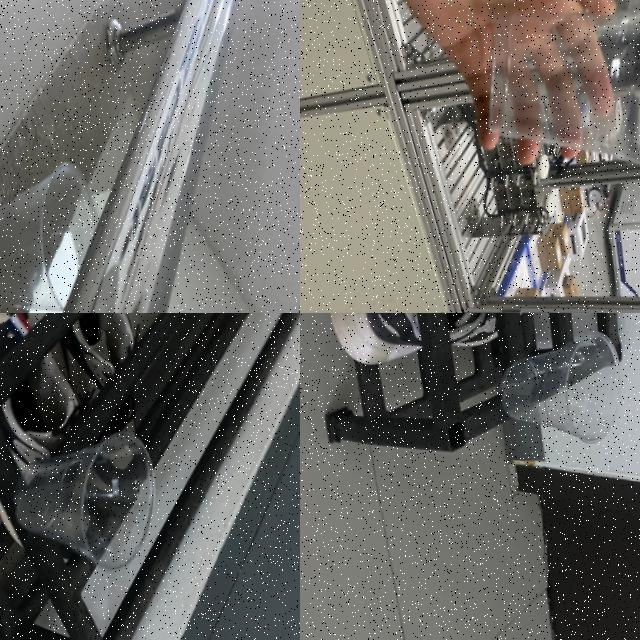glass: (481, 0, 640, 185), (15, 413, 175, 580), (0, 143, 113, 313), (499, 320, 637, 442)
